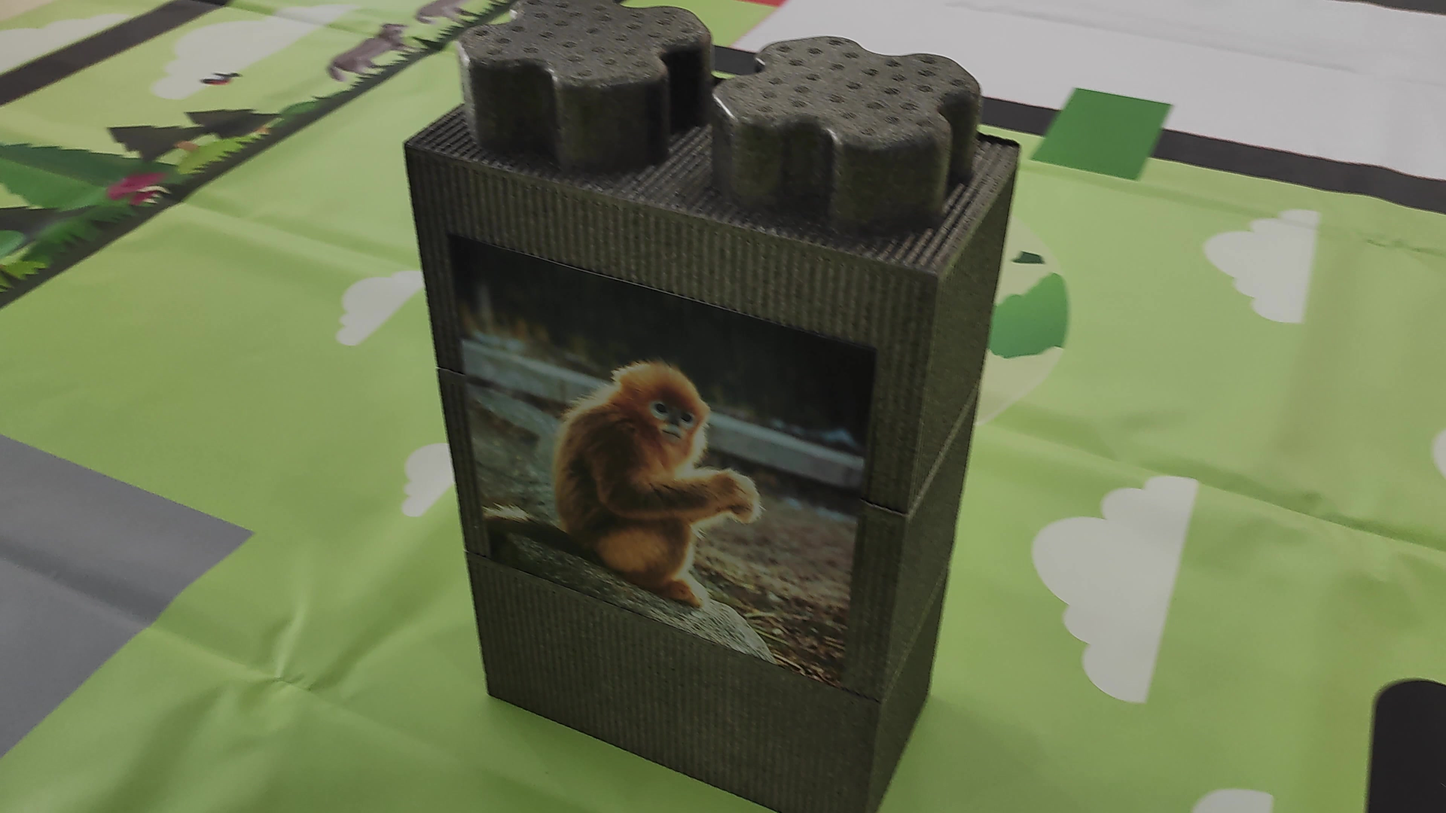monkey: (513, 321, 770, 593)
